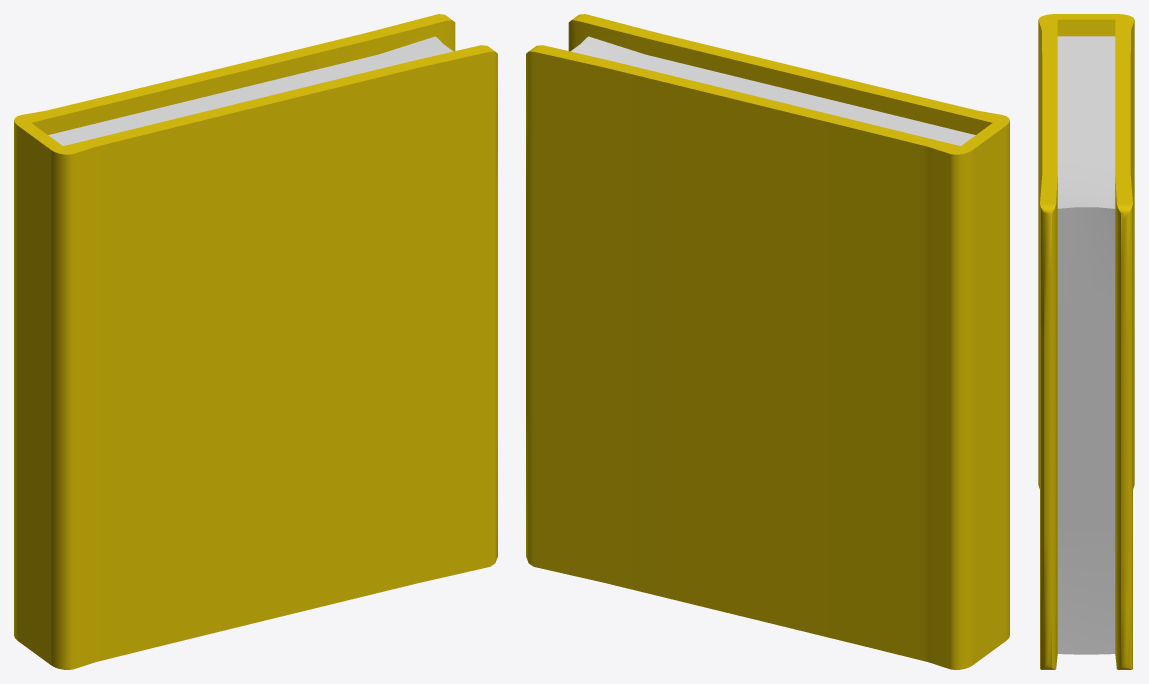
The model's file is book_yellow.fbx.
3 views of the same model, side by side, from view 1: azimuth 30°, elevation 25°; view 2: azimuth 150°, elevation 25°; view 3: azimuth 270°, elevation 25° (orthographic). The views are drawn at different scales.
Visible parts, largest first — view 1: pCube1; view 2: pCube1; view 3: pCube1.
Part boxes in pixels (x1,y1,x2,y2): pCube1: [14, 14, 497, 669]; pCube1: [526, 14, 1009, 669]; pCube1: [1038, 14, 1134, 669].
Size of the model in its own units: 23.21 by 25.88 by 4.84.
